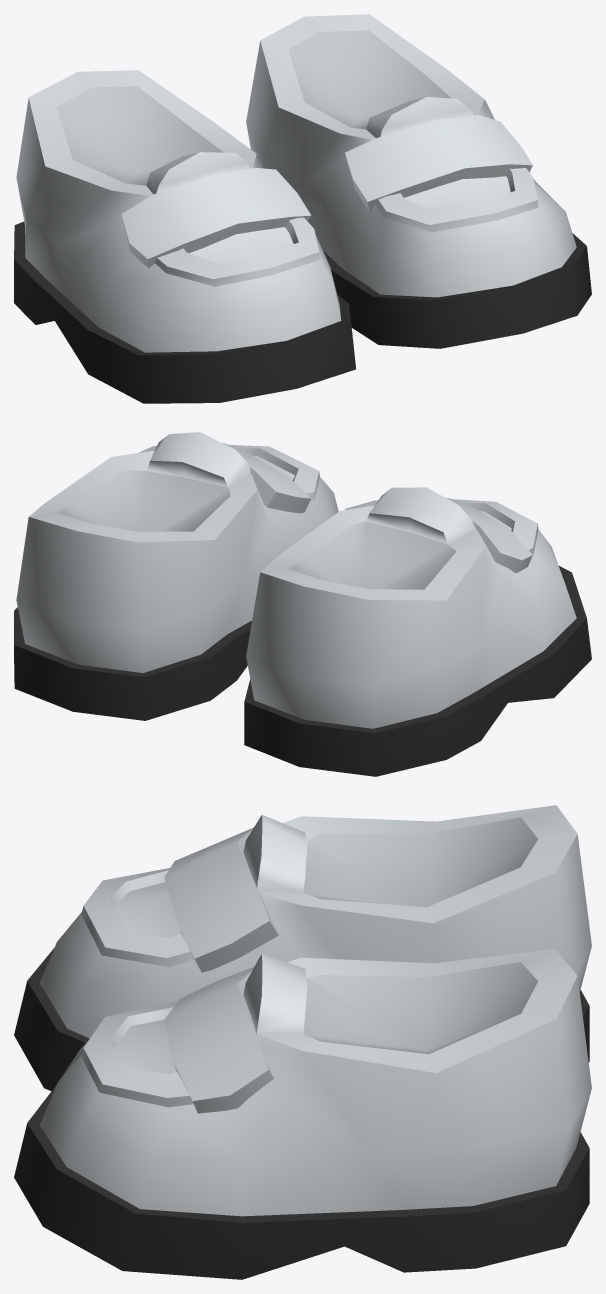
Rendered from Shoes_10.fbx.
The picture shows the model from 3 angles, top to bottom: view 1: azimuth 30°, elevation 25°; view 2: azimuth 150°, elevation 25°; view 3: azimuth 270°, elevation 25°; orthographic projection. The views are drawn at different scales.
Parts seen in each view (by area): view 1: Shoes_10; view 2: Shoes_10; view 3: Shoes_10.
Boxes of the visible parts, <box> form: Shoes_10: <box>14,14,591,403</box>; Shoes_10: <box>14,432,591,776</box>; Shoes_10: <box>14,805,591,1279</box>.
Size of the model in its own units: 41.82 by 16.06 by 34.92.
